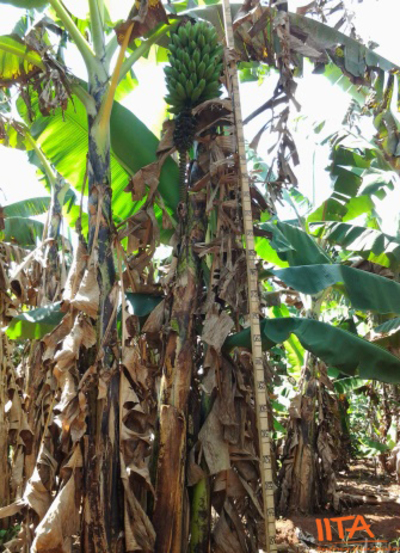bananaHand: (161, 17, 233, 110)
